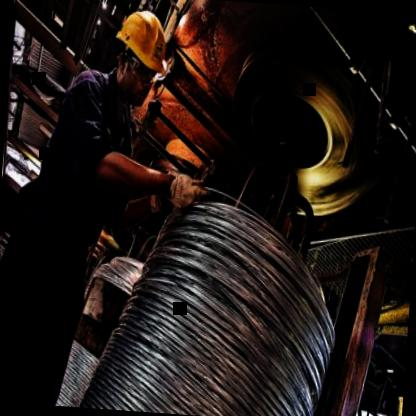helmet: (99, 0, 173, 111)
